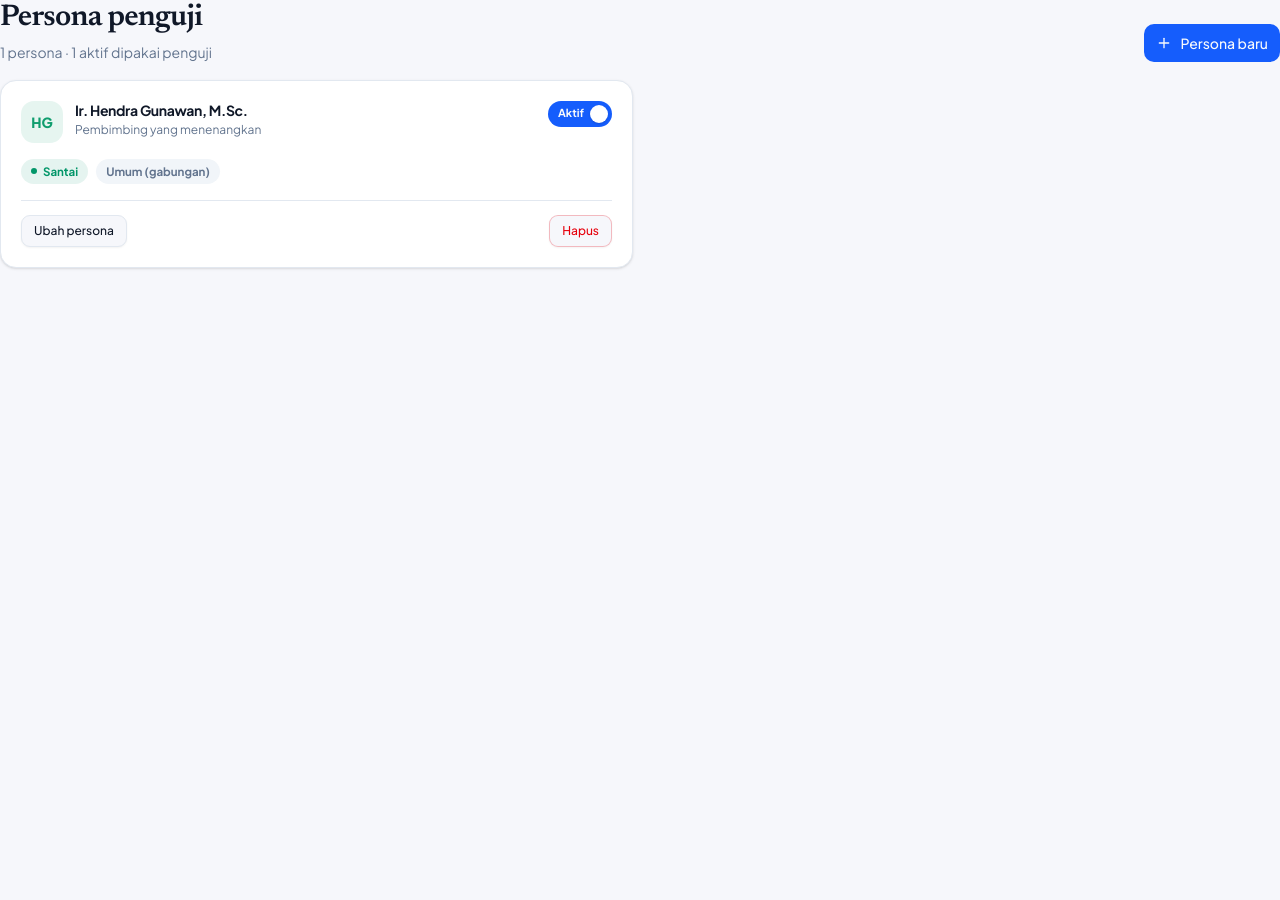
Personas › surfaces a rejected save (e.g. the last-active-persona guard) as an alert
This screenshot has width=1280, height=900.
Step 1. Click the button with aria-label "Ubah hendra" → (74, 231), box top-left (21, 215), bottom-right (127, 247)
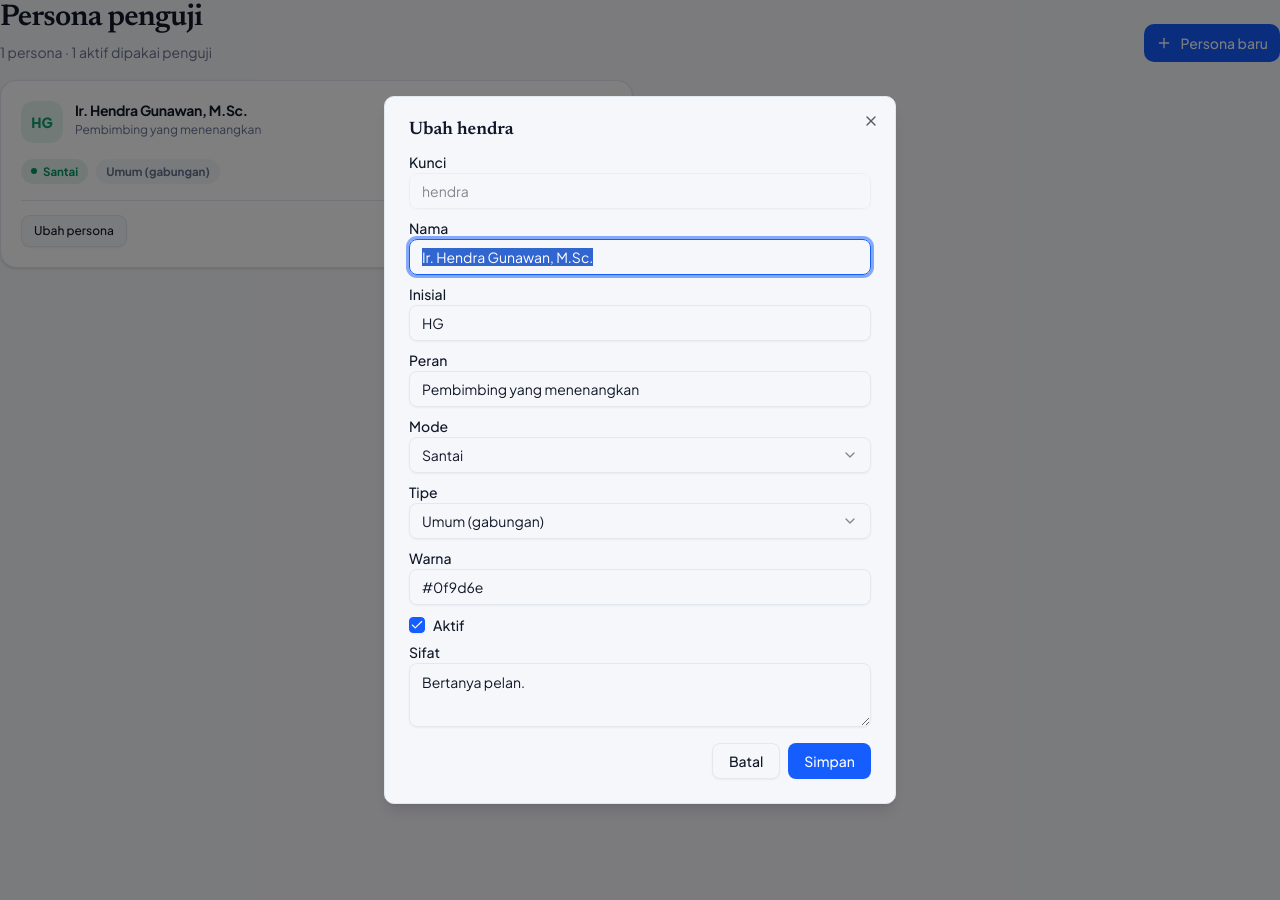
Step 2. Click the checkbox named "Aktif" → (417, 625), box top-left (409, 617), bottom-right (425, 633)
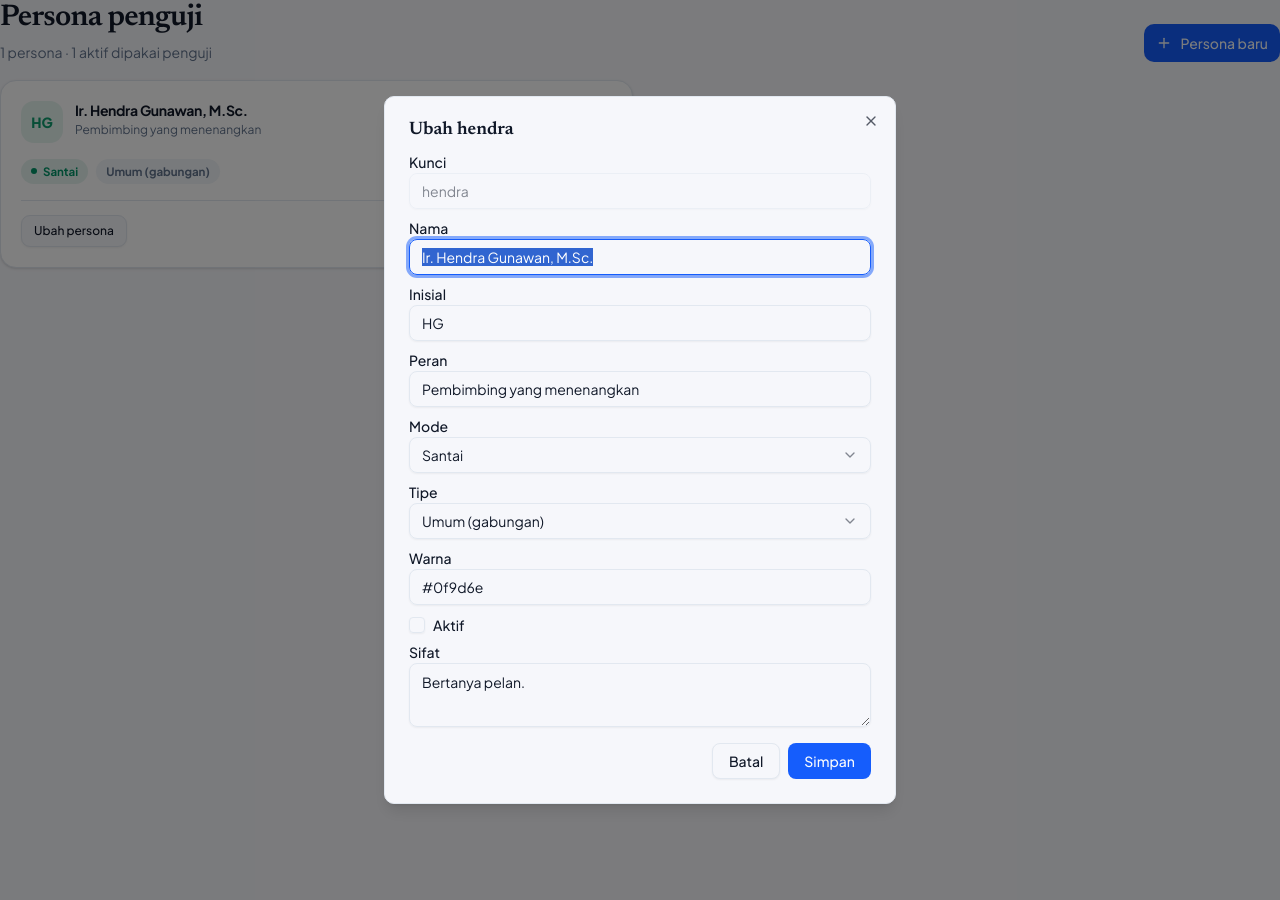
Step 3. Click the button "Simpan" → (830, 761), box top-left (788, 743), bottom-right (871, 779)
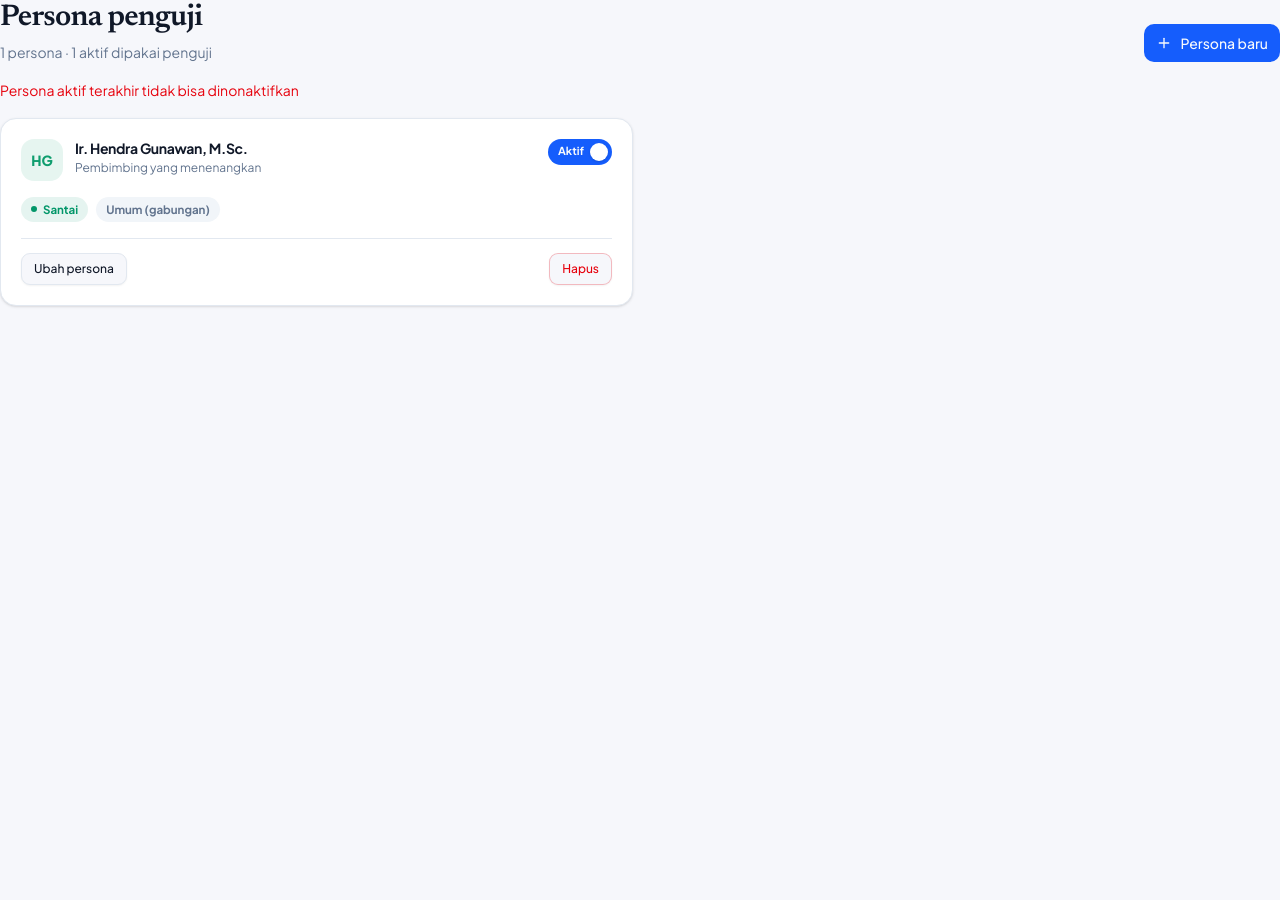
Now the message reads "Persona aktif terakhir tidak bisa dinonaktifkan", box top-left (0, 80), bottom-right (299, 98)
